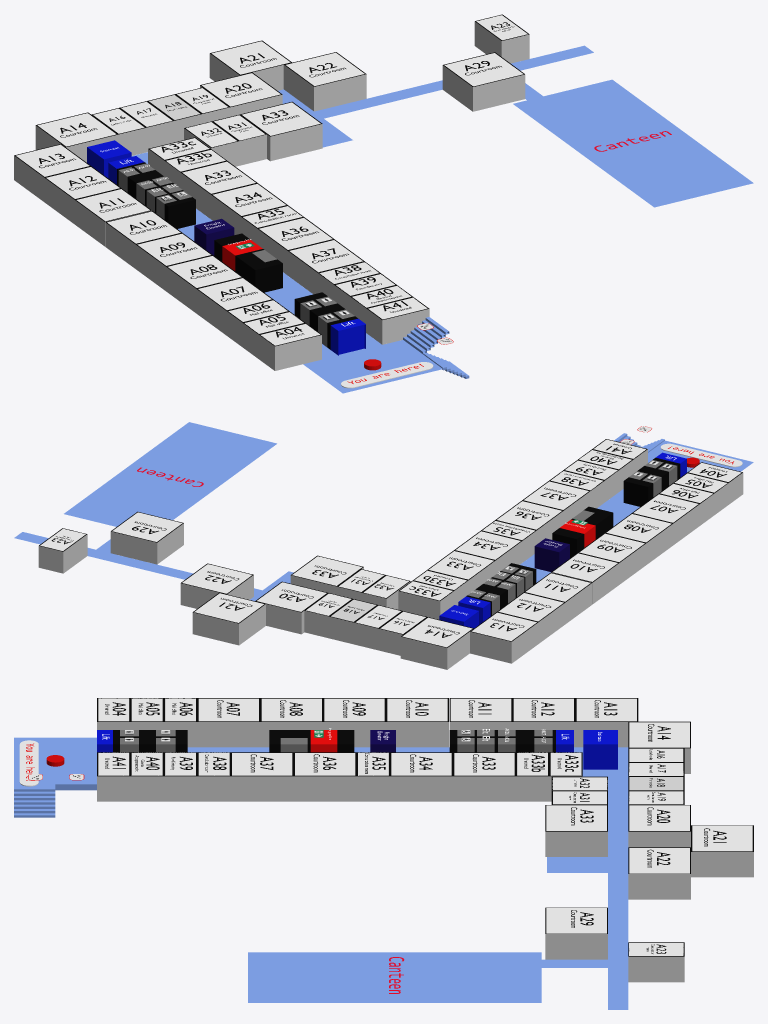
The picture shows the model from 3 angles, top to bottom: view 1: azimuth 30°, elevation 25°; view 2: azimuth 150°, elevation 25°; view 3: azimuth 270°, elevation 25°; orthographic projection. The views are drawn at different scales.
Visible parts, largest first — view 1: Plane.004, kantine, a4, Cube.020, Cube.021, Cube.016, Cube.002, a21, a22, a14, a20, a30 (+50 smaller); view 2: kantine, Plane.004, Cube.020, Cube.036, Cube.033, Cube.032, Cube.024, a22, a21, a30, a14, a29 (+54 smaller); view 3: Plane.004, kantine, Cube.006, Cube.008, Cube.026, Cube.036, Cube.010, Cube.011, Cube.020, Cube.021, Cube.016, Cube.029 (+50 smaller).
Boxes of the visible parts, <box> form: Plane.004: <box>87,45,593,393</box>; kantine: <box>513,79,753,207</box>; a4: <box>258,323,321,370</box>; Cube.020: <box>442,52,525,111</box>; Cube.021: <box>283,52,366,111</box>; Cube.016: <box>240,101,322,161</box>; Cube.002: <box>366,297,429,344</box>; a21: <box>211,41,290,74</box>; a22: <box>286,52,364,86</box>; a14: <box>37,113,116,146</box>; a20: <box>202,73,280,106</box>; a30: <box>242,102,320,135</box>; kantine: <box>64,422,276,526</box>; Plane.004: <box>14,440,753,628</box>; Cube.020: <box>110,511,183,564</box>; Cube.036: <box>192,592,265,645</box>; Cube.033: <box>400,617,473,669</box>; Cube.032: <box>470,612,538,663</box>; Cube.024: <box>38,528,87,573</box>; a22: <box>182,564,251,593</box>; a21: <box>194,593,264,622</box>; a30: <box>292,556,361,585</box>; a14: <box>402,617,472,647</box>; a29: <box>112,512,182,541</box>; Plane.004: <box>14,730,628,1009</box>; kantine: <box>248,952,541,1002</box>; Cube.006: <box>230,752,293,801</box>; Cube.008: <box>293,752,356,801</box>; Cube.026: <box>197,698,260,747</box>; Cube.036: <box>691,825,753,877</box>; Cube.010: <box>390,752,452,801</box>; Cube.011: <box>453,752,515,801</box>; Cube.020: <box>545,907,607,959</box>; Cube.021: <box>628,847,690,899</box>; Cube.016: <box>545,805,607,856</box>; Cube.029: <box>386,698,448,747</box>.
Size of the model in its own units: 48.02 by 3.53 by 52.44.
Materials: 29 (6 with a texture image).
